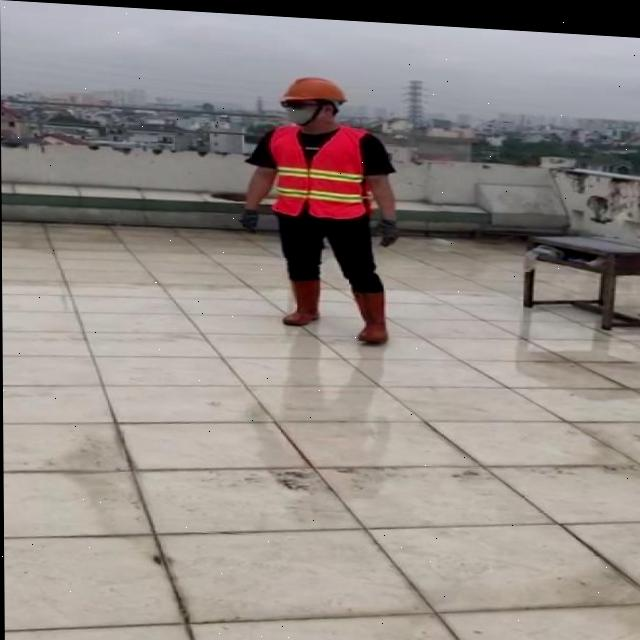Gloves: (377, 213, 398, 242), (237, 204, 259, 229)
Helmet: (279, 71, 347, 105)
Safety-Boot: (352, 282, 387, 340), (282, 271, 320, 323)
Safety-Vest: (268, 117, 370, 217)
